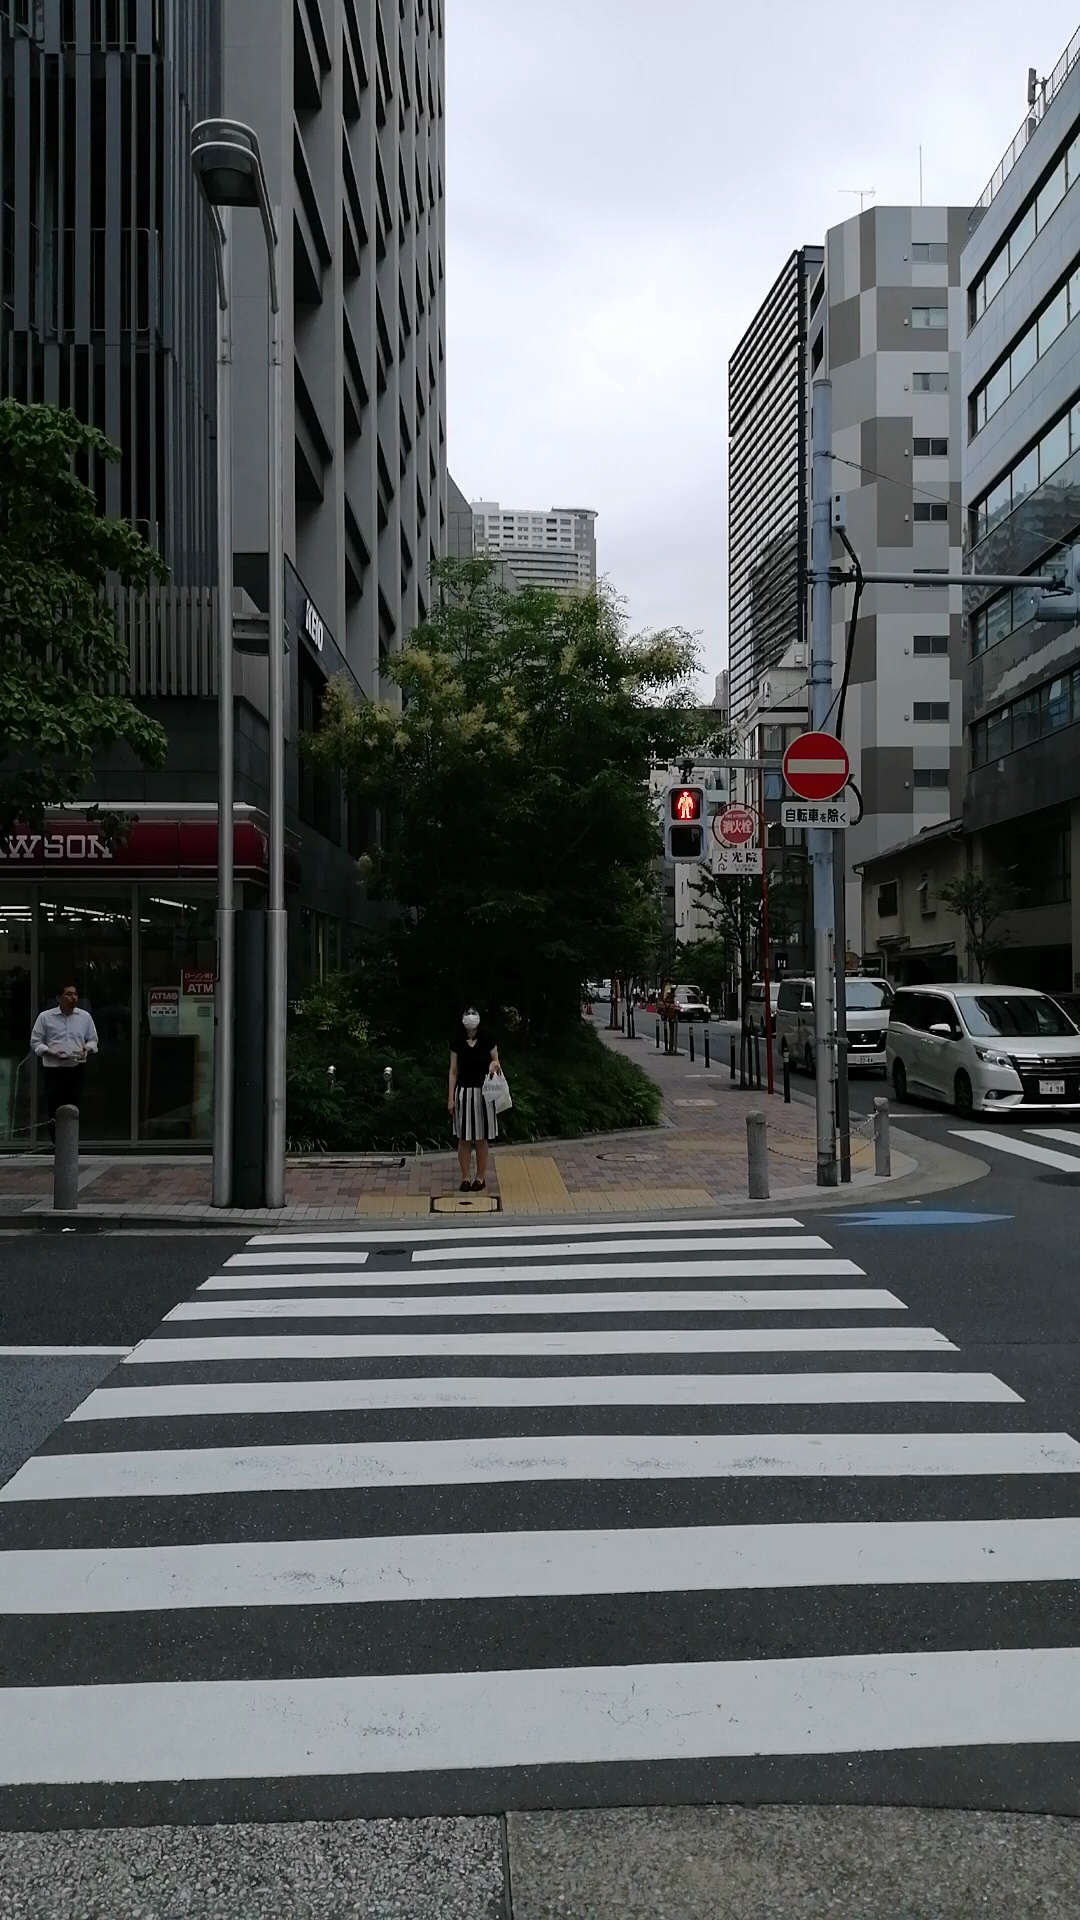red: (663, 785, 705, 862)
